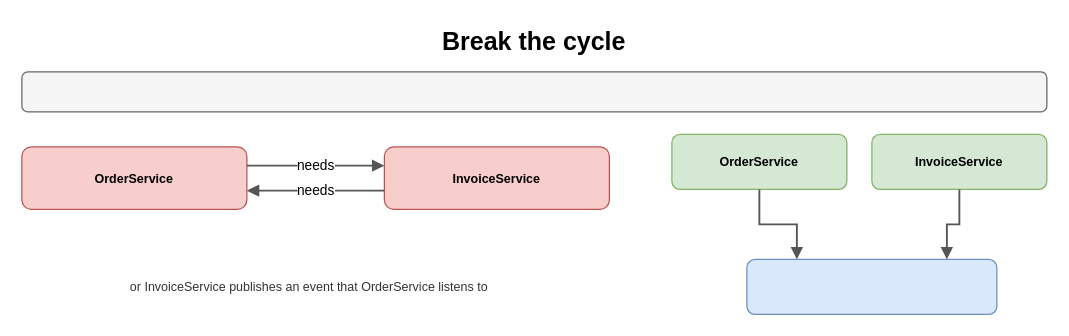
This 1069x336 diagram has some shape labels left out. Each missing label, with the centre of its shape:
"Make the arrows point one direction only" goes at (534,91).
"PaymentStatus" goes at (871,286).
